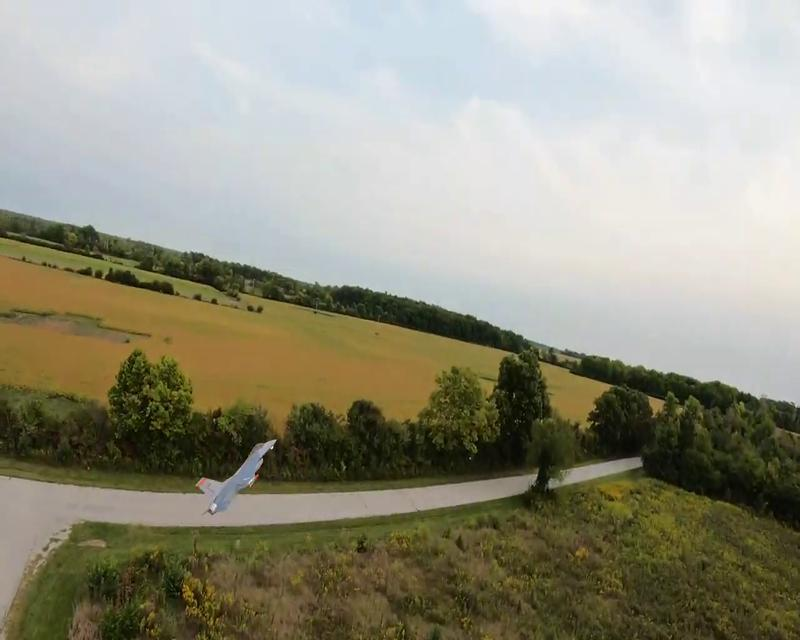UAV: (194, 437, 278, 516)
